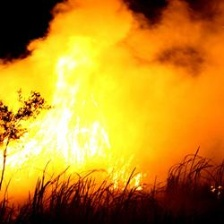fire: (1, 67, 148, 195)
smoke: (121, 4, 224, 169)
